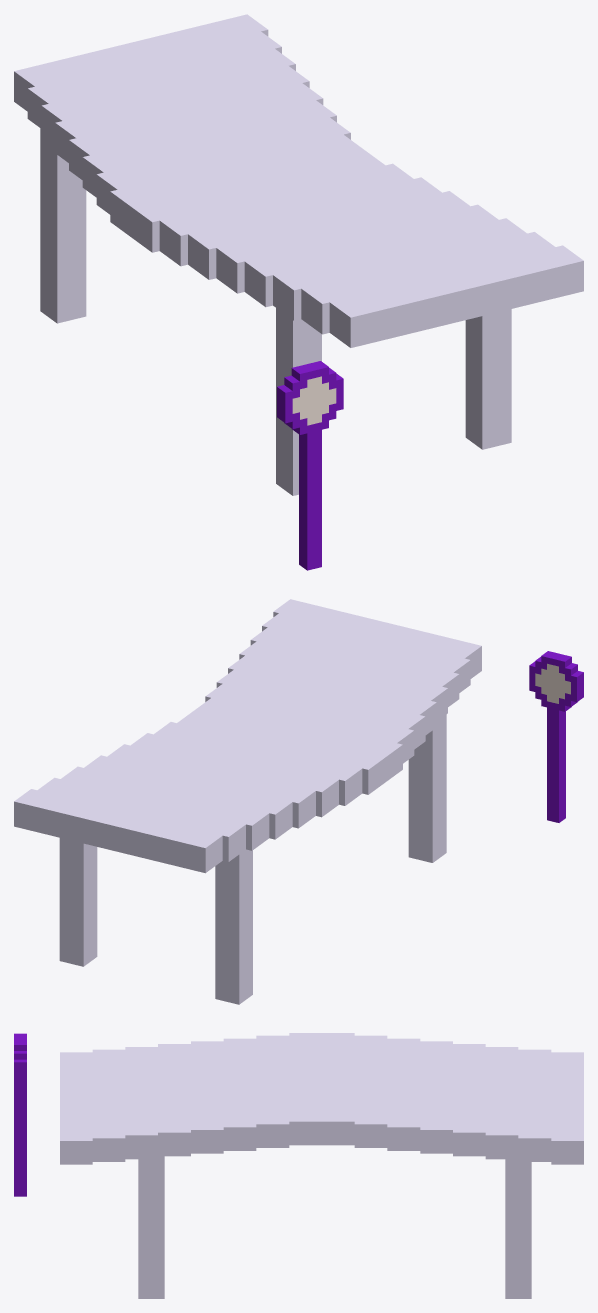
The model's file is bus-stop.obj.
3 views of the same model, one above another, from view 1: azimuth 30°, elevation 25°; view 2: azimuth 150°, elevation 25°; view 3: azimuth 270°, elevation 25° (orthographic). The views are drawn at different scales.
Bounding box in the file's own units: 4.5 × 2.8 × 8.7.
1 material, 1 textured.
